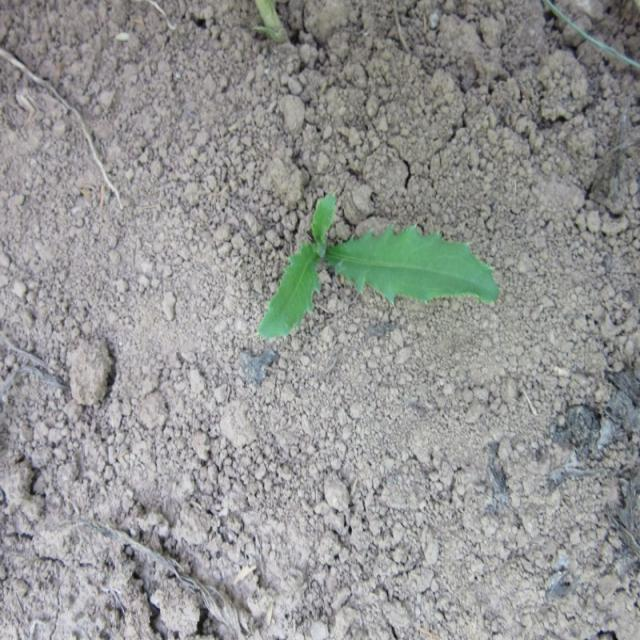field_thistle: (235, 187, 509, 368)
